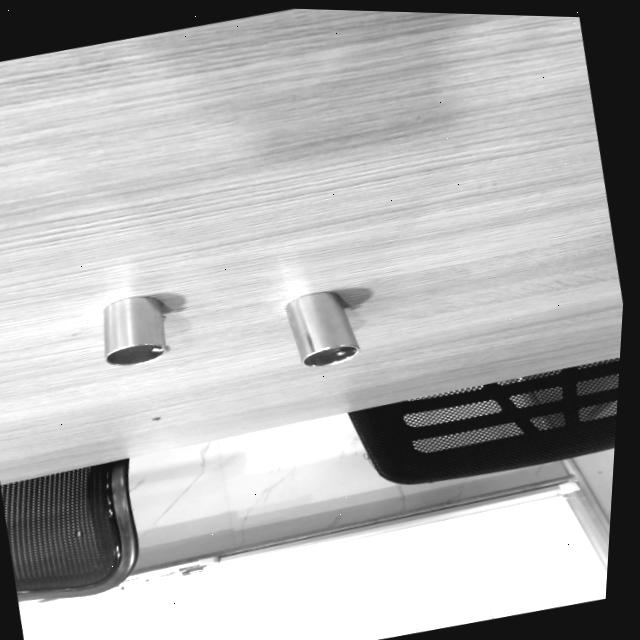Co_Lon: (281, 283, 360, 372)
Co_Nho: (96, 292, 169, 367)
